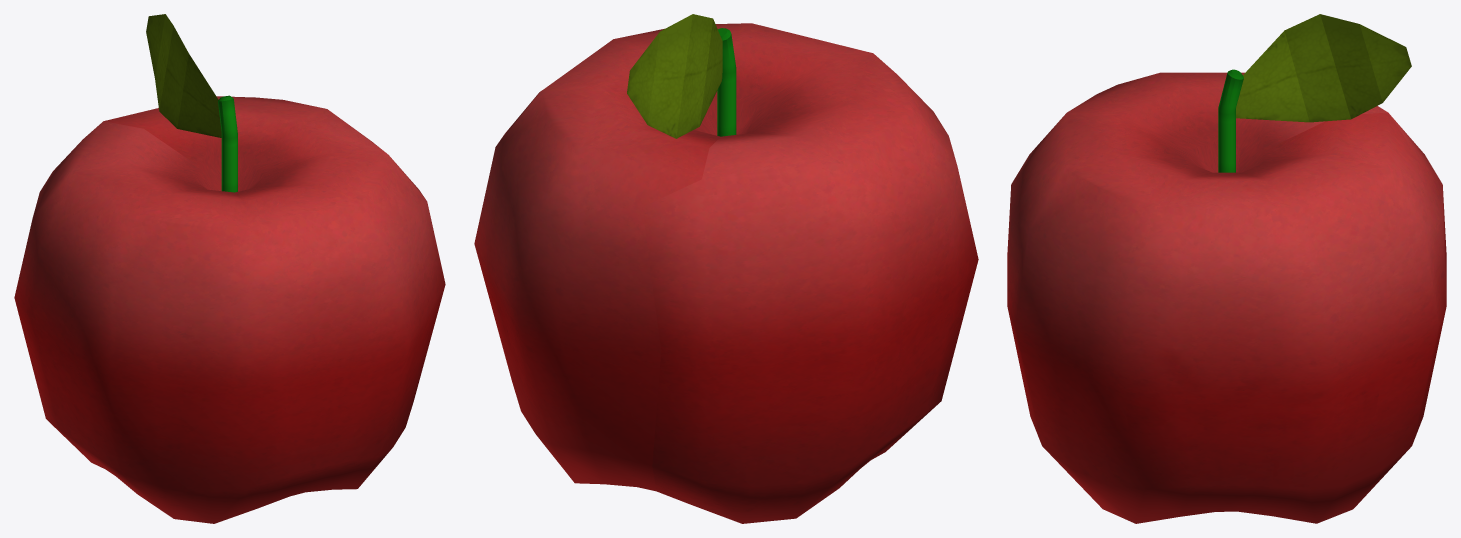
The model's file is apple.fbx.
3 views of the same model, side by side, from view 1: azimuth 30°, elevation 25°; view 2: azimuth 150°, elevation 25°; view 3: azimuth 270°, elevation 25° (orthographic). The views are drawn at different scales.
Visible parts, largest first — view 1: Apple; view 2: Apple; view 3: Apple.
Part boxes in pixels (left/top/right/bottom): Apple: left=14, top=14, right=445, bottom=523; Apple: left=474, top=14, right=978, bottom=523; Apple: left=1007, top=14, right=1446, bottom=523.
Bounding box in the file's own units: 10.73 × 12.58 × 10.74.
Materials: 1 (1 with a texture image).
